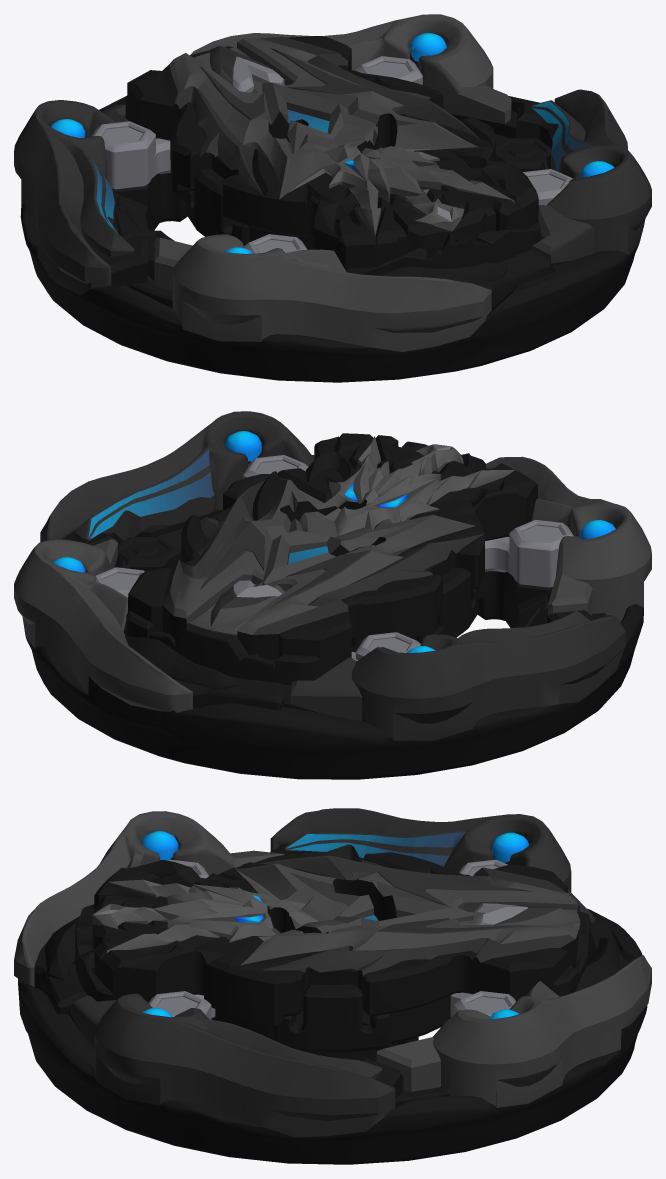
File: apocalypsecosmicpremiumgeo.fbx
The picture shows the model from 3 angles, top to bottom: view 1: azimuth 30°, elevation 25°; view 2: azimuth 150°, elevation 25°; view 3: azimuth 270°, elevation 25°; orthographic projection.
Visible parts, largest first — view 1: Premium_CosmicApocalypseA5_Layer; view 2: Premium_CosmicApocalypseA5_Layer; view 3: Premium_CosmicApocalypseA5_Layer.
Part boxes in pixels (x1,y1,x2,y2): Premium_CosmicApocalypseA5_Layer: [14, 14, 651, 382]; Premium_CosmicApocalypseA5_Layer: [14, 411, 651, 779]; Premium_CosmicApocalypseA5_Layer: [14, 808, 651, 1164].
Size of the model in its own units: 0.5553 by 0.1346 by 0.5529.
2 materials, 2 textured.
